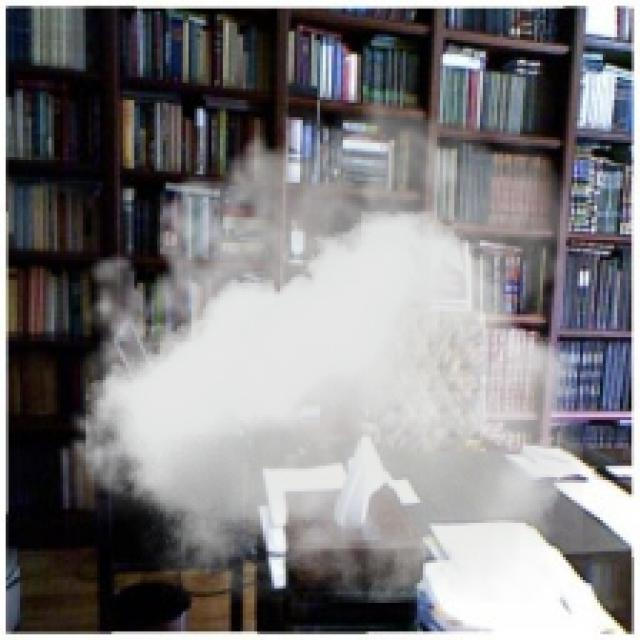smoke: (54, 71, 583, 603)
